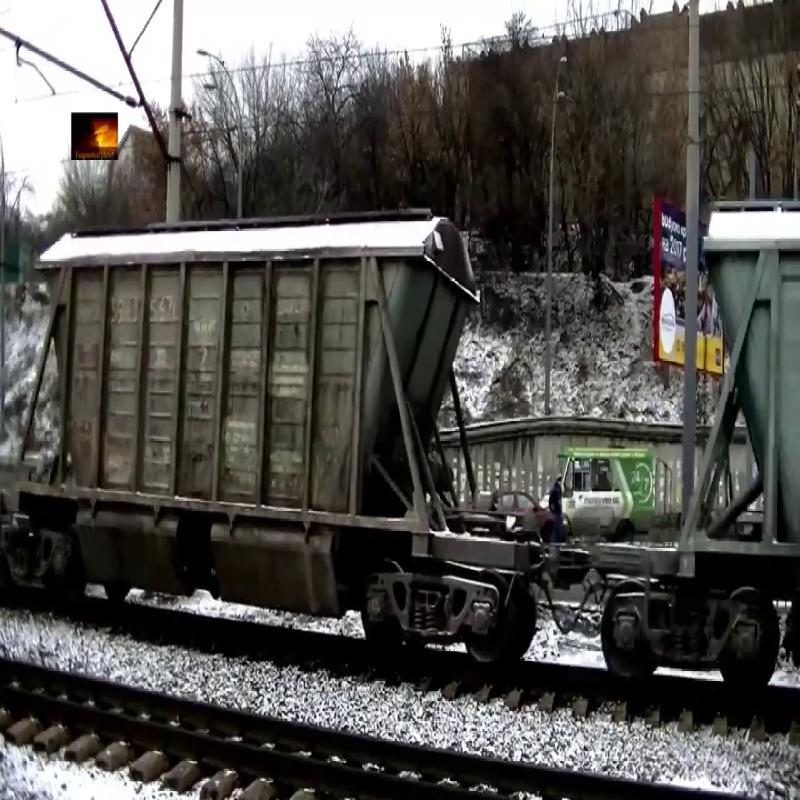train: (5, 202, 475, 584), (663, 190, 800, 594)
